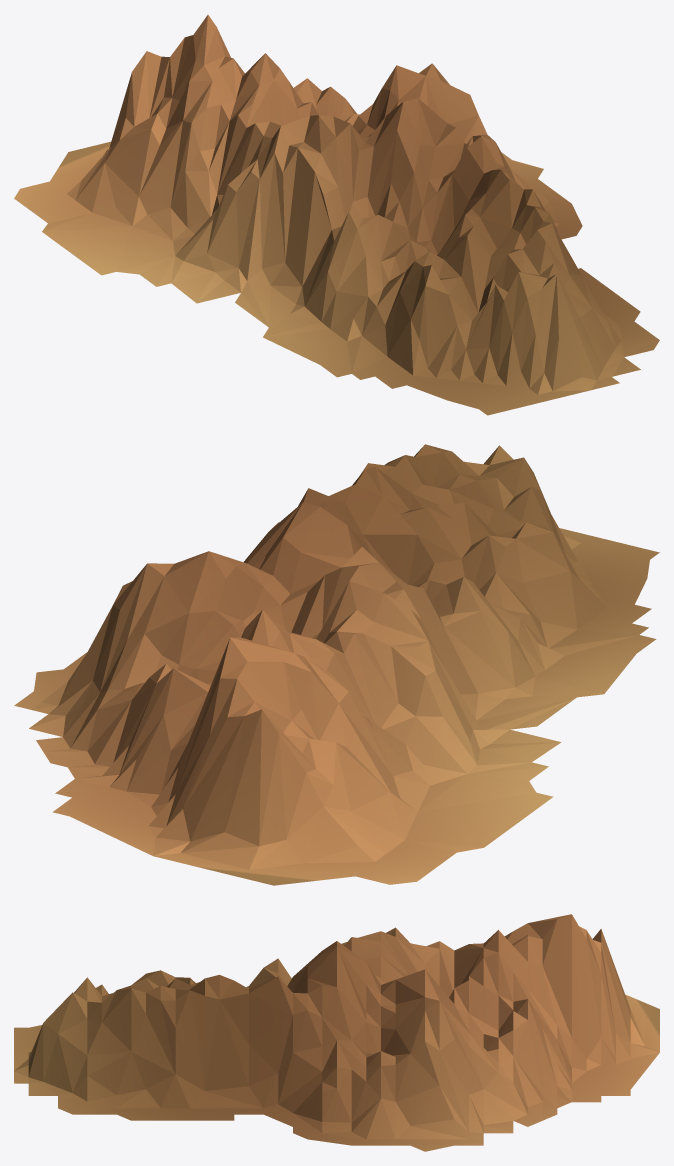
The model's file is Mountain.fbx.
The picture shows the model from 3 angles, top to bottom: view 1: azimuth 30°, elevation 25°; view 2: azimuth 150°, elevation 25°; view 3: azimuth 270°, elevation 25°; orthographic projection. The views are drawn at different scales.
Parts seen in each view (by area): view 1: PalmHarbor1:TerrainMesh; view 2: PalmHarbor1:TerrainMesh; view 3: PalmHarbor1:TerrainMesh.
Boxes of the visible parts, left/top/right/bottom form: PalmHarbor1:TerrainMesh: left=14, top=15, right=659, bottom=415; PalmHarbor1:TerrainMesh: left=14, top=444, right=659, bottom=885; PalmHarbor1:TerrainMesh: left=14, top=914, right=659, bottom=1151.
Bounding box in the file's own units: 24.23 × 8.02 × 35.54.
Materials: 1 (1 with a texture image).
